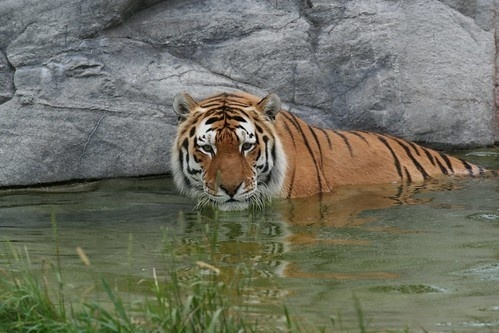tigre: (163, 86, 499, 212)
